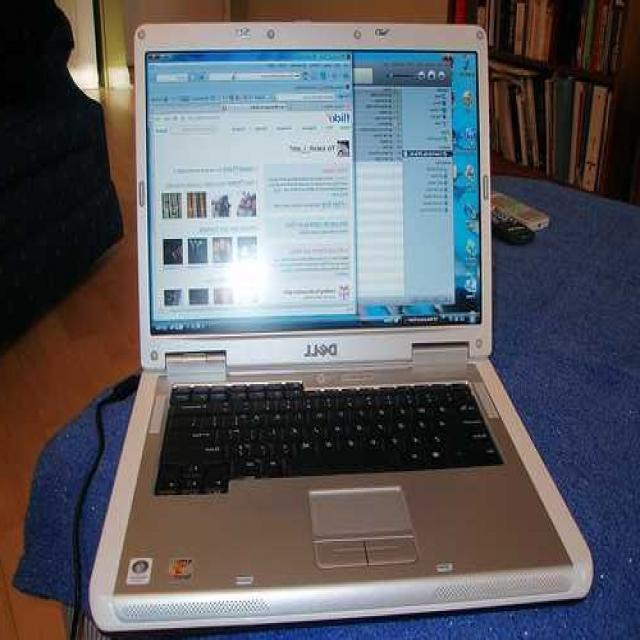laptop: (65, 11, 575, 618)
